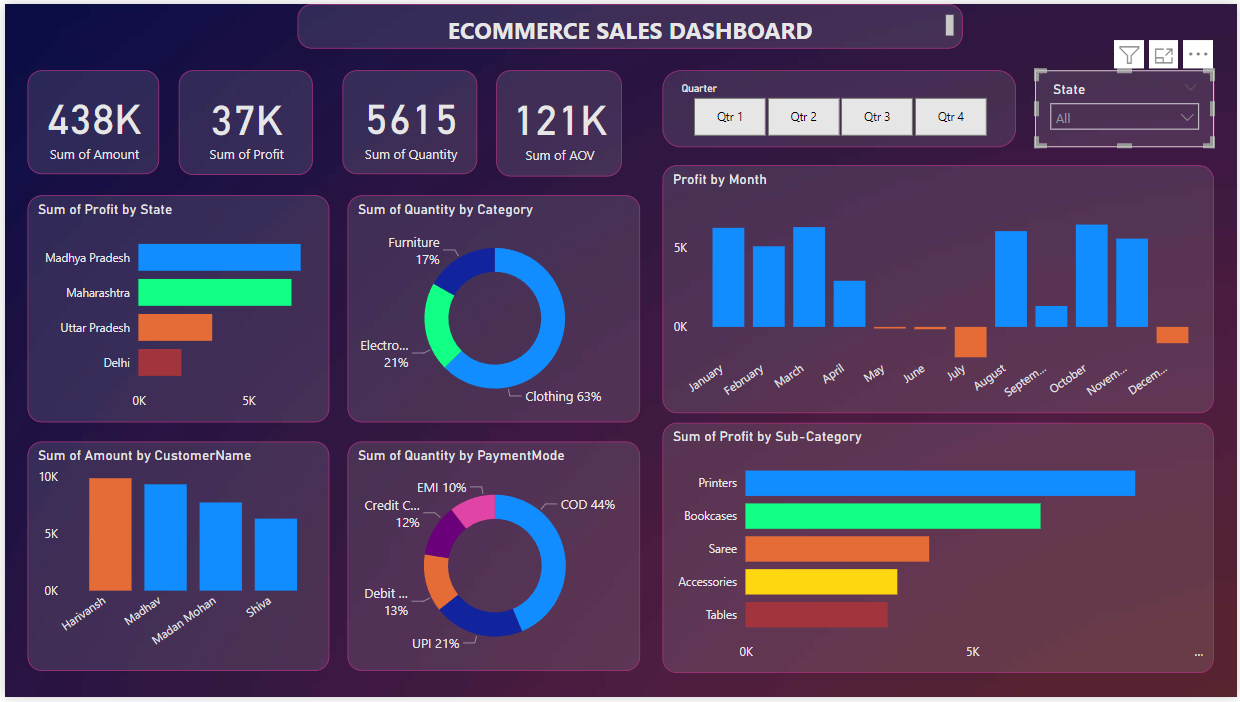

Layout of this report page (visuals, bound fields, positions):
{"tool":"powerbi","page":{"name":"Page 1","canvas":[1280,720],"ordinal":0},"visuals":[{"type":"textbox","box":[304.4,0,691.1,46.7],"z":0},{"type":"columnChart","title":"Profit by Month","fields":{"Category":["Orders.Order Date.Variation.Date Hierarchy.Month"],"Y":["Details.Profit"]},"box":[683.8,167.5,572.5,257.5],"z":1000},{"type":"barChart","fields":{"Category":["Details.Sub-Category"],"Y":["Details.Profit"]},"box":[683.8,435,572.5,260],"z":2000},{"type":"donutChart","fields":{"Category":["Details.Category"],"Y":["Details.Quantity"]},"box":[356.4,199.1,303.6,236.4],"z":3000},{"type":"donutChart","fields":{"Y":["Details.Quantity"],"Category":["Details.PaymentMode"]},"box":[356.2,455,303.8,238.8],"z":4000},{"type":"card","fields":{"Values":["Details.Amount"]},"box":[23.3,68.9,136.7,107.8],"z":5000},{"type":"card","fields":{"Values":["Details.Quantity"]},"box":[350,68.9,140,107.8],"z":6000},{"type":"card","fields":{"Values":["Details.Profit"]},"box":[181.1,68.9,138.9,108.9],"z":7000},{"type":"card","fields":{"Values":["Details.AOV"]},"box":[510,68.3,130,110],"z":8000},{"type":"barChart","fields":{"Category":["Orders.State"],"Y":["Details.Profit"]},"box":[23.8,198.8,313.8,236.2],"z":9000},{"type":"columnChart","fields":{"Category":["Orders.CustomerName"],"Y":["Details.Amount"]},"box":[23.8,455,313.8,238.8],"z":10000},{"type":"slicer","fields":{"Values":["Orders.Order Date.Variation.Date Hierarchy.Quarter"]},"box":[683.8,68.8,367.5,80],"z":11000},{"type":"slicer","fields":{"Values":["Orders.State"]},"box":[1070,68.8,186.2,80],"z":12000}]}

Visuals, with their boxes in screenshot pixels (x1, y1, x2, y2), scaled from the page's 1280x720 canvas onto the 1240x702 screenshot:
textbox: bbox=[295, 0, 964, 46]
"Profit by Month" columnChart: bbox=[662, 163, 1217, 414]
barChart - Details.Sub-Category x Details.Profit: bbox=[662, 424, 1217, 678]
donutChart - Details.Category x Details.Quantity: bbox=[345, 194, 639, 425]
donutChart - Details.Quantity x Details.PaymentMode: bbox=[345, 444, 639, 676]
card - Details.Amount: bbox=[23, 67, 155, 172]
card - Details.Quantity: bbox=[339, 67, 475, 172]
card - Details.Profit: bbox=[175, 67, 310, 173]
card - Details.AOV: bbox=[494, 67, 620, 174]
barChart - Orders.State x Details.Profit: bbox=[23, 194, 327, 424]
columnChart - Orders.CustomerName x Details.Amount: bbox=[23, 444, 327, 676]
slicer - Orders.Order Date.Variation.Date Hierarchy.Quarter: bbox=[662, 67, 1018, 145]
slicer - Orders.State: bbox=[1037, 67, 1217, 145]
